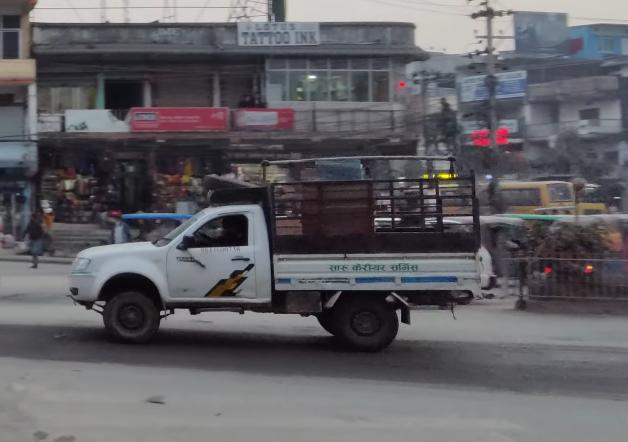bus: (484, 164, 594, 234)
transport_vehicle: (65, 157, 494, 362)
